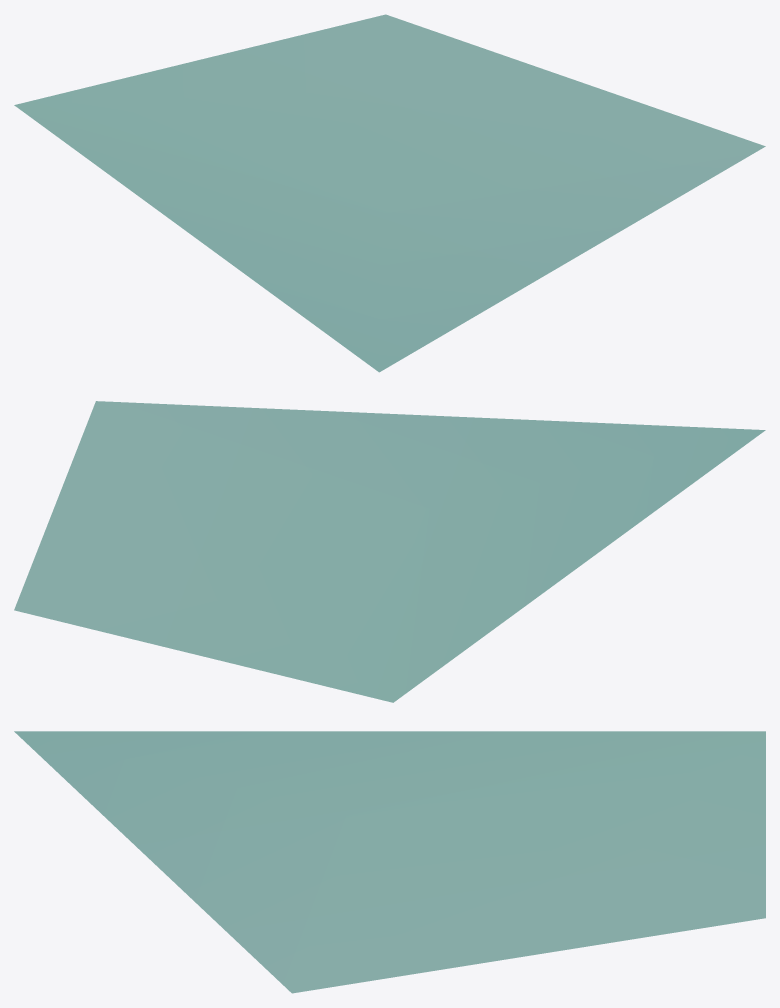
Rendered from water-16-0.glb.
3 views of the same model, one above another, from view 1: azimuth 30°, elevation 25°; view 2: azimuth 150°, elevation 25°; view 3: azimuth 270°, elevation 25° (orthographic). The views are drawn at different scales.
Bounding box in the file's own units: 1.74 × 0 × 2.11.
